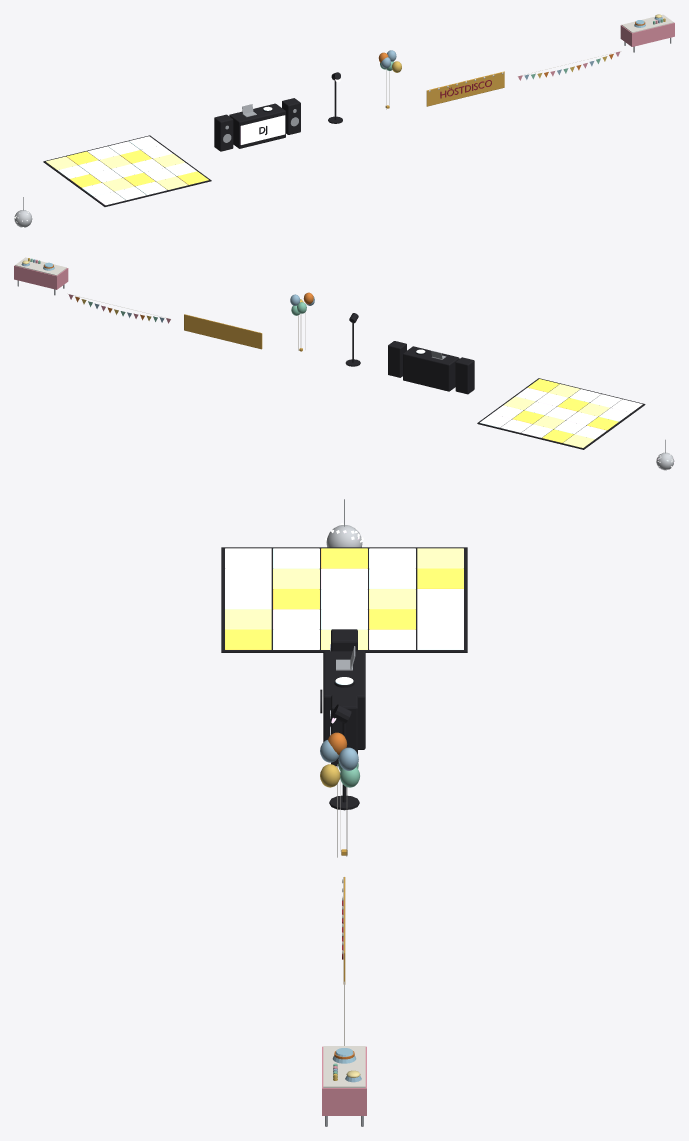
Rendered from disco-props.glb.
3 renders of one model, top to bottom at view 1: azimuth 30°, elevation 25°; view 2: azimuth 150°, elevation 25°; view 3: azimuth 270°, elevation 25°, orthographic. The views are drawn at different scales.
Visible parts, largest first — view 1: banner, booth, booth_front, floor_rim, cloth, speaker, speaker.001, table; view 2: booth, banner, floor_rim, cloth, speaker, speaker.001, table; view 3: floor_rim, booth, cloth, table, speaker.001, Floor_Tile_0_0, Floor_Tile_0_1, Floor_Tile_0_2, Floor_Tile_0_3, Floor_Tile_0_4, Floor_Tile_1_0, Floor_Tile_1_1 (+17 smaller).
Part boxes in pixels (x1=…): banner: x1=426, y1=71, x2=504, y2=106; booth: x1=229, y1=103, x2=285, y2=148; booth_front: x1=240, y1=115, x2=285, y2=144; floor_rim: x1=43, y1=135, x2=211, y2=206; cloth: x1=620, y1=22, x2=674, y2=46; speaker: x1=214, y1=114, x2=233, y2=151; speaker.001: x1=282, y1=98, x2=300, y2=134; table: x1=622, y1=14, x2=673, y2=32; booth: x1=403, y1=346, x2=459, y2=391; banner: x1=184, y1=314, x2=262, y2=349; floor_rim: x1=477, y1=378, x2=645, y2=449; cloth: x1=14, y1=265, x2=68, y2=289; speaker: x1=455, y1=357, x2=474, y2=394; speaker.001: x1=388, y1=341, x2=406, y2=377; table: x1=15, y1=257, x2=66, y2=275; floor_rim: x1=221, y1=547, x2=467, y2=652; booth: x1=323, y1=651, x2=365, y2=749; cloth: x1=322, y1=1046, x2=366, y2=1115; table: x1=323, y1=1046, x2=365, y2=1087; speaker.001: x1=331, y1=695, x2=357, y2=766; Floor_Tile_0_0: x1=225, y1=548, x2=271, y2=568; Floor_Tile_0_1: x1=273, y1=548, x2=319, y2=568; Floor_Tile_0_2: x1=321, y1=548, x2=367, y2=568; Floor_Tile_0_3: x1=369, y1=548, x2=415, y2=568; Floor_Tile_0_4: x1=417, y1=548, x2=463, y2=568; Floor_Tile_1_0: x1=225, y1=568, x2=271, y2=588; Floor_Tile_1_1: x1=273, y1=568, x2=319, y2=588.
Size of the model in its own units: 25.14 by 3.23 by 4.1.
